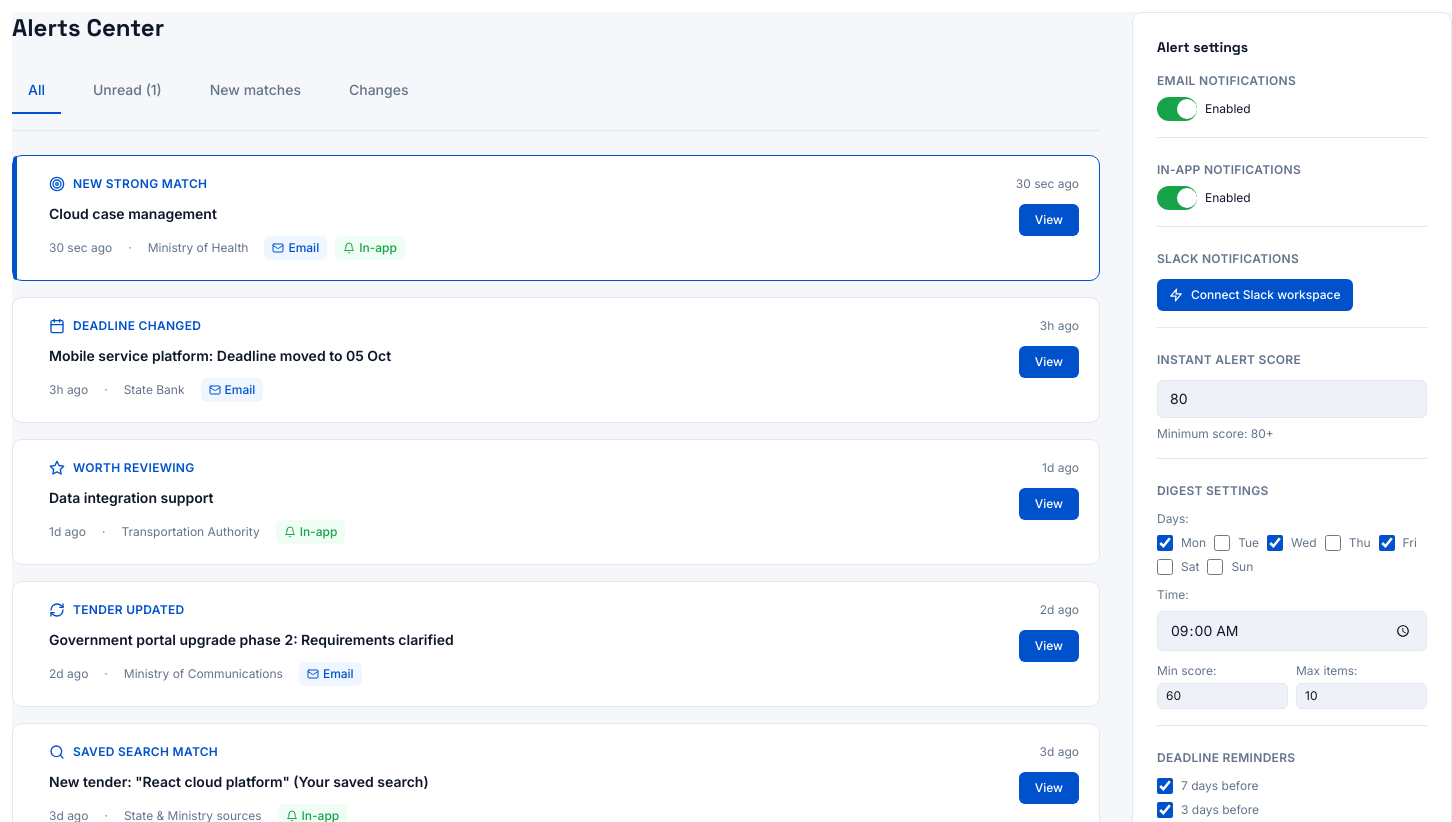
Test: AlertsCenter › disconnects Slack and returns to connect button
The image size is (1452, 822).
Click the button "Connect Slack workspace" at (1255, 295), box [1157,279,1352,311]
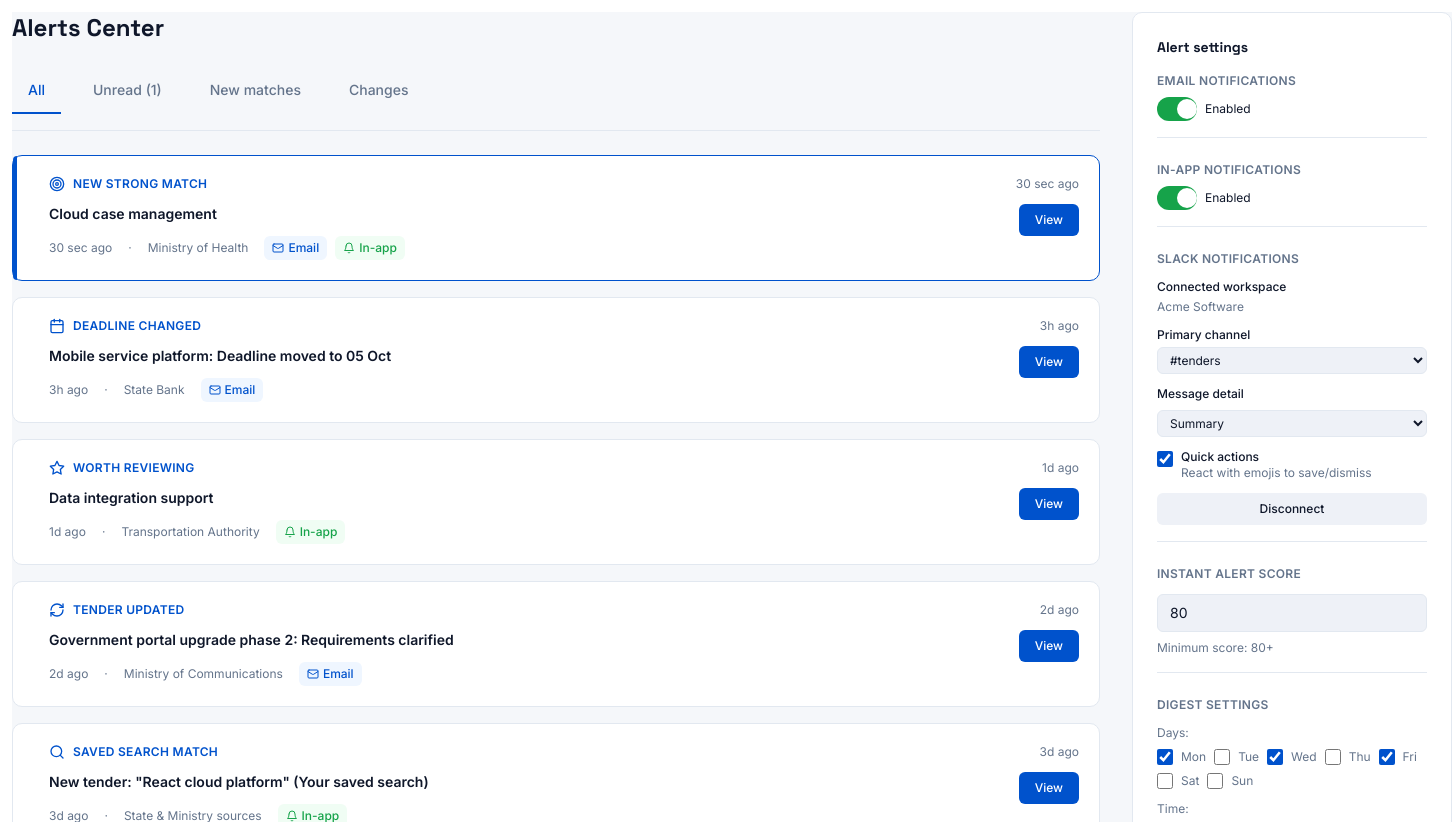
Now the text "Acme Software" is shown, box [1157,299,1244,314]
Click the button "Disconnect" at (1292, 509), box [1157,493,1427,525]
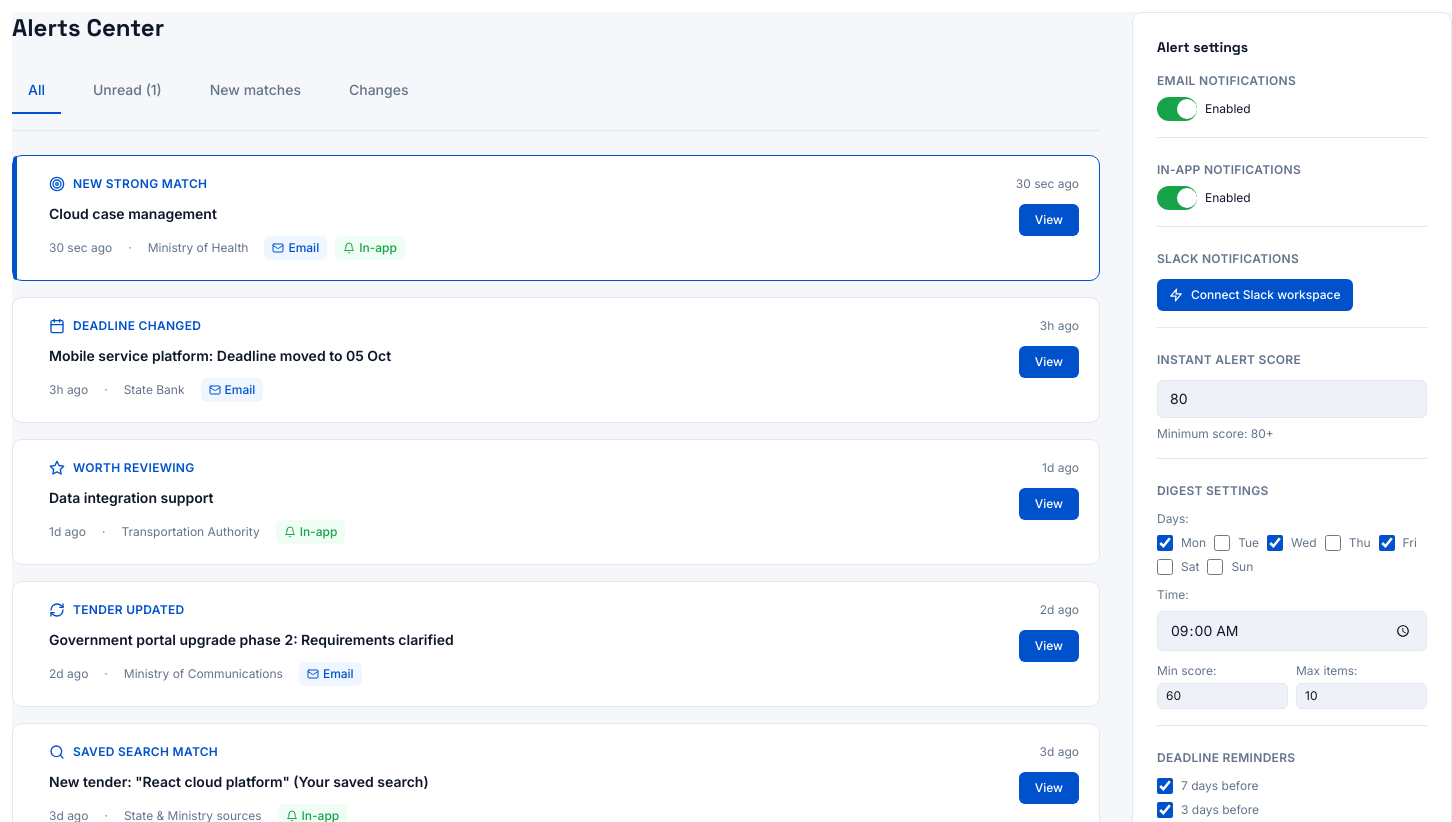
Now the button "Connect Slack workspace" is shown, box [1157,279,1352,311]
Now the text "Acme Software" is gone
